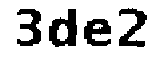2: (117, 4, 149, 53)
3: (13, 6, 45, 50)
d: (48, 5, 81, 51)
e: (82, 15, 114, 49)
